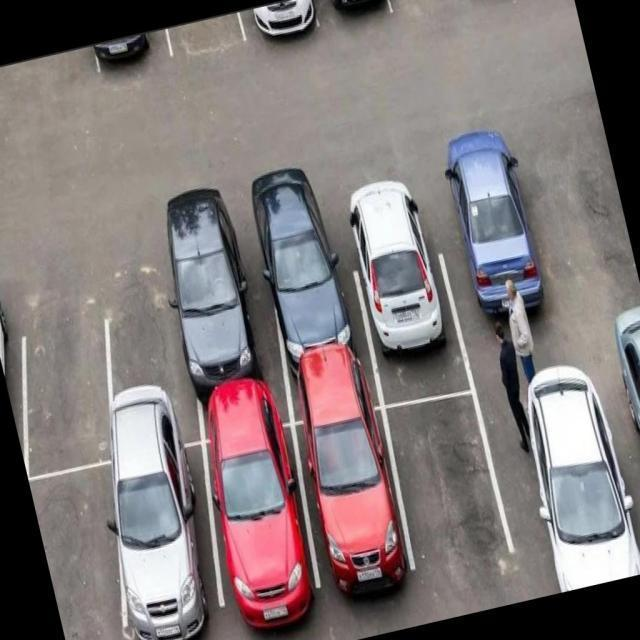car: (92, 442, 240, 640), (202, 419, 323, 639), (293, 404, 419, 610), (259, 222, 379, 422), (168, 250, 288, 430), (352, 231, 469, 395)
free: (384, 392, 520, 602), (0, 298, 128, 476), (28, 460, 143, 640), (88, 276, 208, 447)
